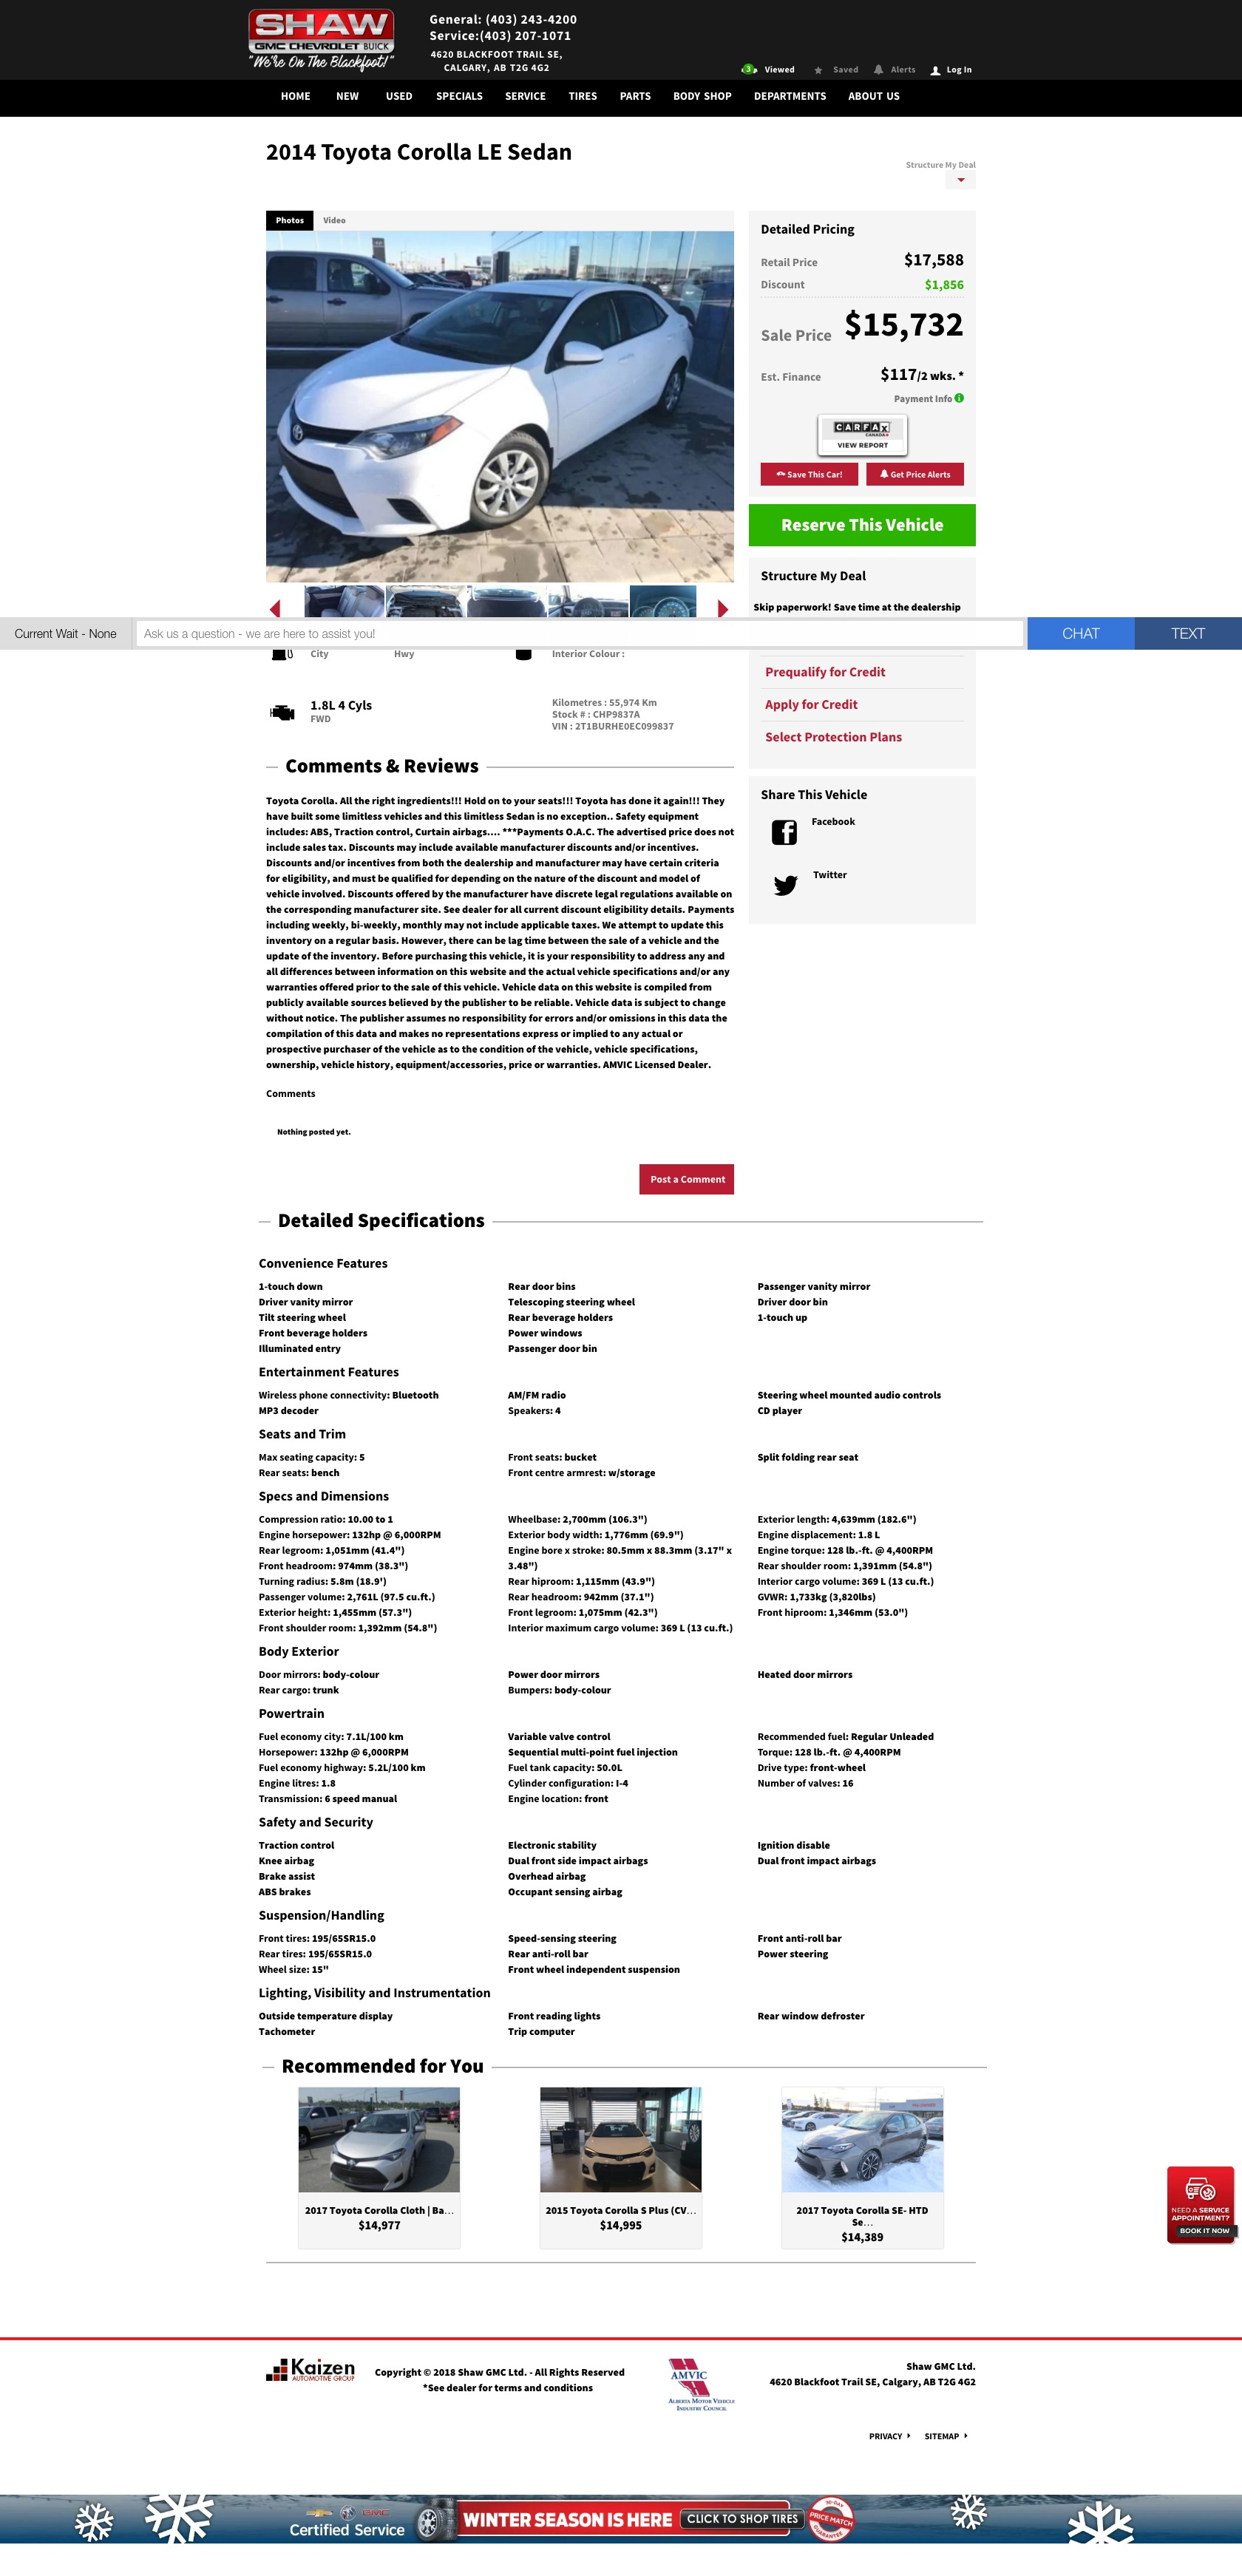car: (718, 598, 729, 621)
